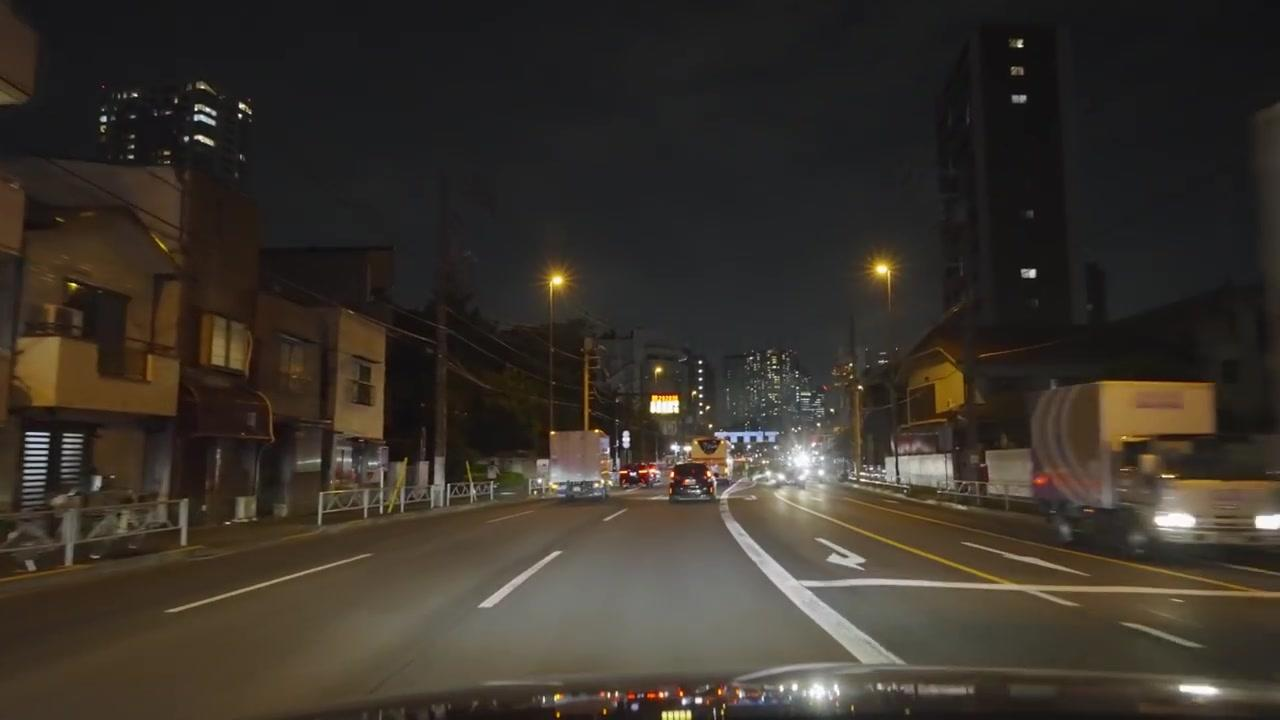car: (668, 462, 716, 502)
truck: (1028, 381, 1277, 558), (549, 430, 611, 501)
